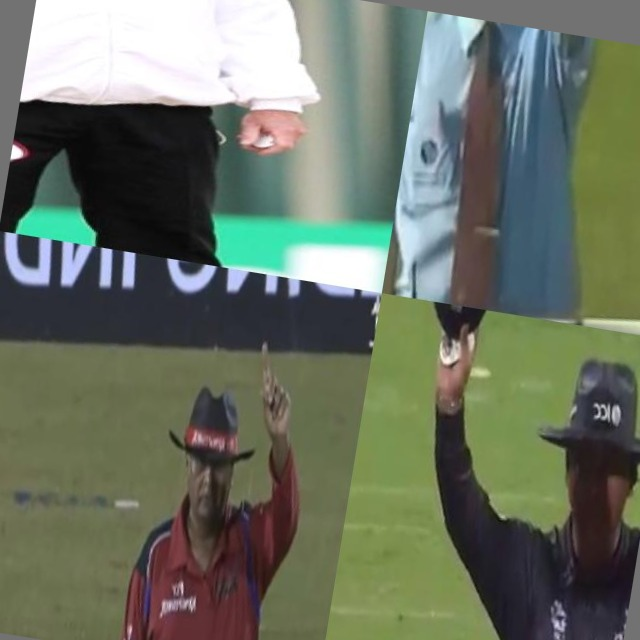No_Action: (0, 0, 369, 284)
Out: (67, 301, 371, 640), (382, 11, 640, 328)
Six: (356, 299, 640, 640)
